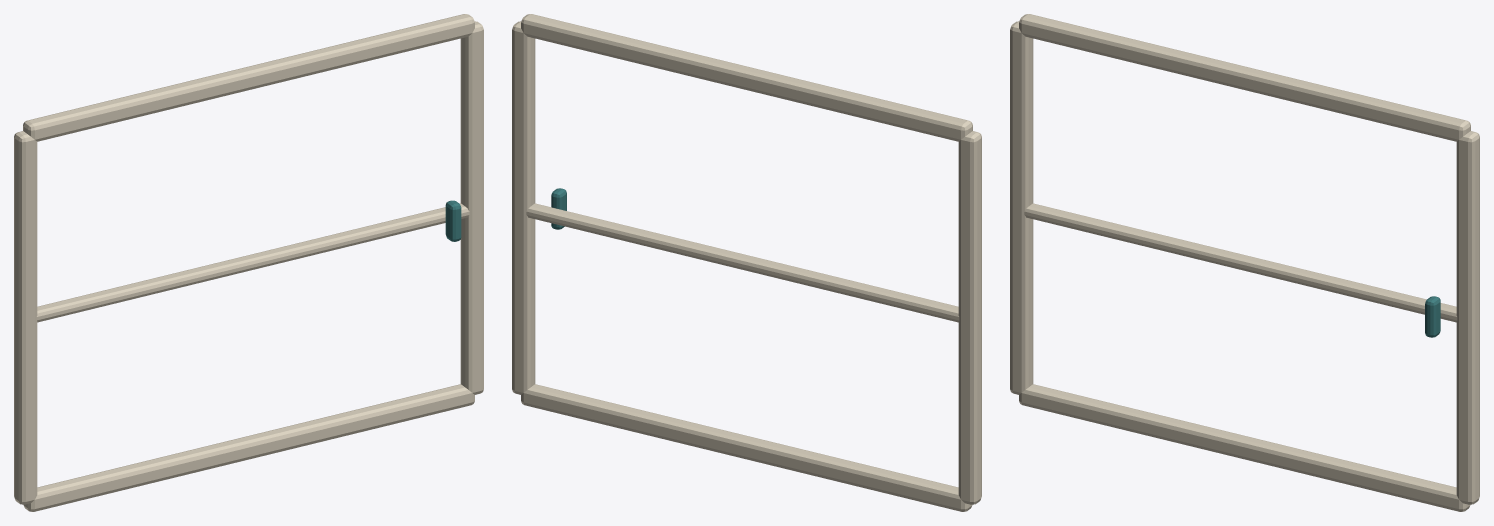
The model's file is bedroom_window_sash.glb.
The picture shows the model from 3 angles, left to right: view 1: azimuth 30°, elevation 25°; view 2: azimuth 150°, elevation 25°; view 3: azimuth 330°, elevation 25°; orthographic projection.
Parts seen in each view (by area): view 1: bedroom_window_sash_Mesh; view 2: bedroom_window_sash_Mesh; view 3: bedroom_window_sash_Mesh.
Part boxes in pixels (bbox=[...]): bedroom_window_sash_Mesh: bbox=[14, 14, 483, 511]; bedroom_window_sash_Mesh: bbox=[512, 14, 981, 511]; bedroom_window_sash_Mesh: bbox=[1010, 14, 1479, 511].
Size of the model in its own units: 2.58 by 2.06 by 0.165.
